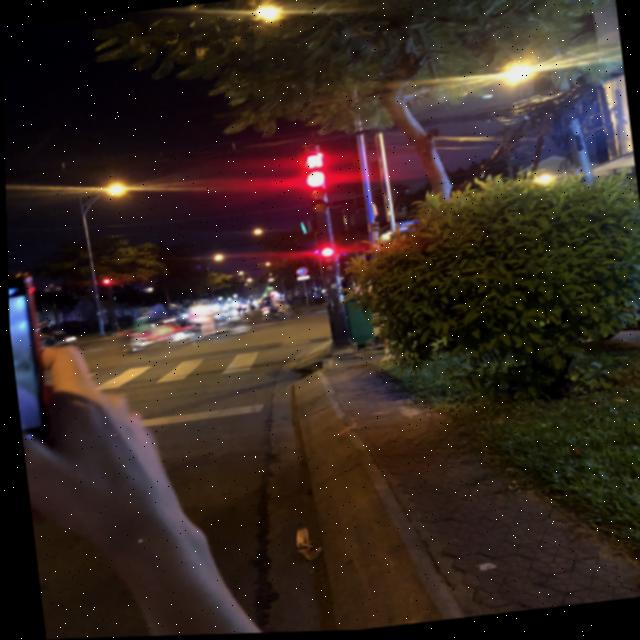Red: (301, 170, 331, 222), (312, 242, 339, 280)
